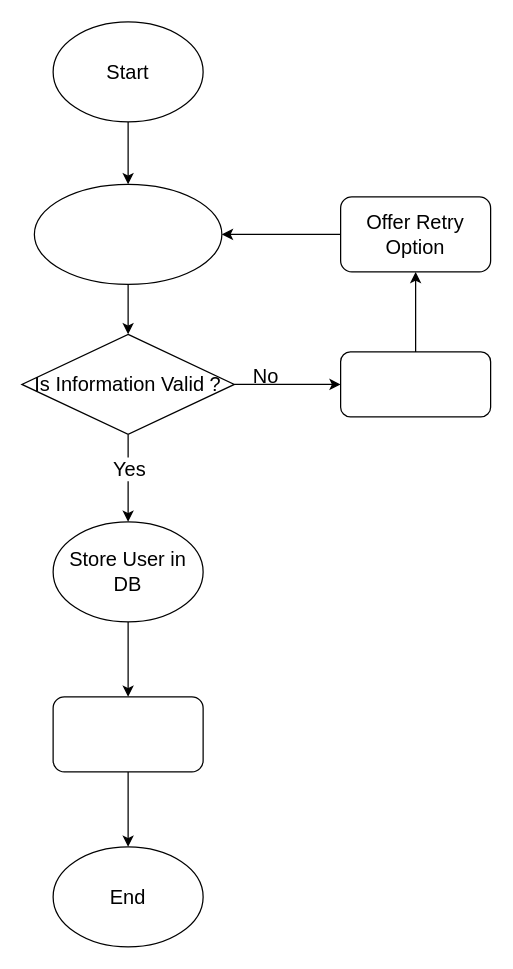
This 513x969 diagram has some shape labels left out. Here are the shapes that lost their labels. From the top down, the centre of each, then its label:
At (x=127, y=233): "User Enters Registration Information".
At (x=415, y=384): "Show Error Message".
At (x=127, y=734): "Send confirmation Message".
